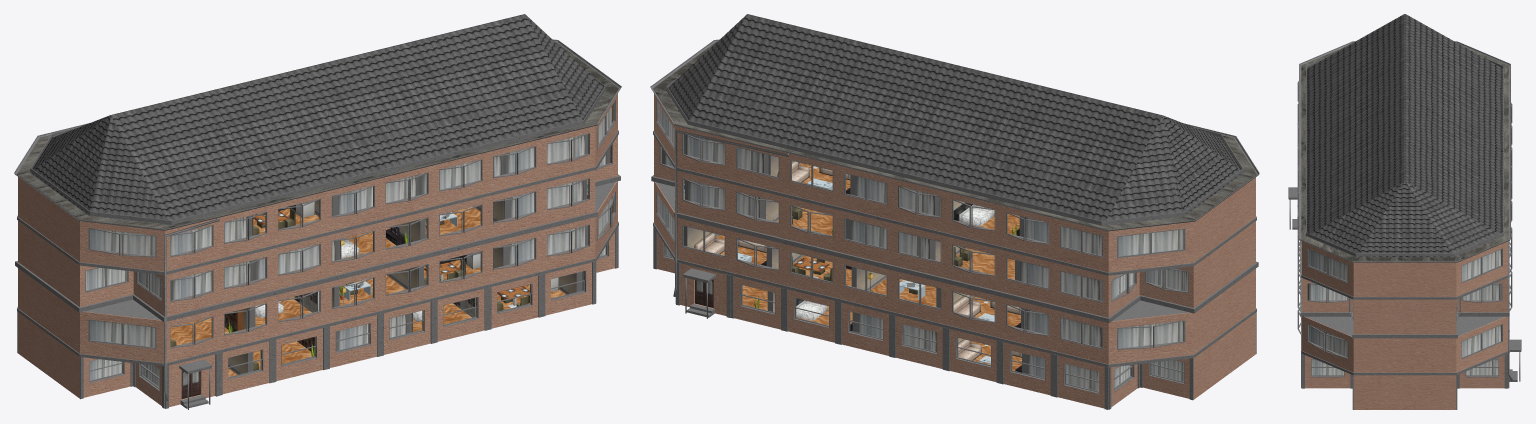
Rendered from Building_4stores_PopularHouse.obj.
The picture shows the model from 3 angles, left to right: view 1: azimuth 30°, elevation 25°; view 2: azimuth 150°, elevation 25°; view 3: azimuth 270°, elevation 25°; orthographic projection. The views are drawn at different scales.
Parts seen in each view (by area): view 1: Building_4stores_PopularHouse; view 2: Building_4stores_PopularHouse; view 3: Building_4stores_PopularHouse.
Part boxes in pixels (x1=…): Building_4stores_PopularHouse: x1=14, y1=14, x2=621, y2=409; Building_4stores_PopularHouse: x1=650, y1=14, x2=1259, y2=409; Building_4stores_PopularHouse: x1=1288, y1=14, x2=1521, y2=409.
Bounding box in the file's own units: 13.27 × 5.72 × 5.95.
Materials: 10 (10 with a texture image).
